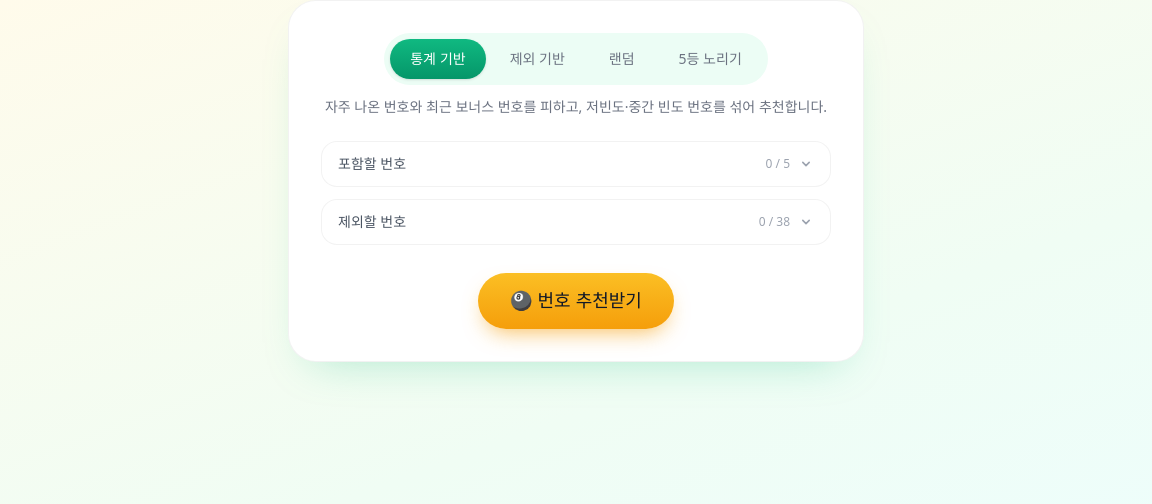
Scenario: RecommenderClient › 5등 노리기 (target5) › renders the API error (role=alert) and no result when the draw is rejected
Click the button "5등 노리기" at (710,59), box [659,39,762,79]
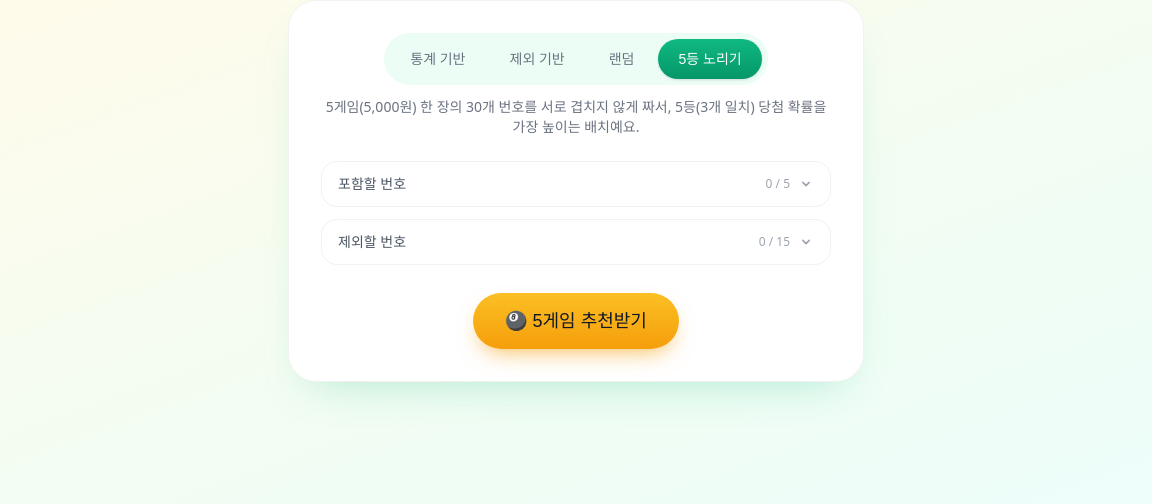
Click the button "🎱 5게임 추천받기" at (576,321), box [473,293,679,349]
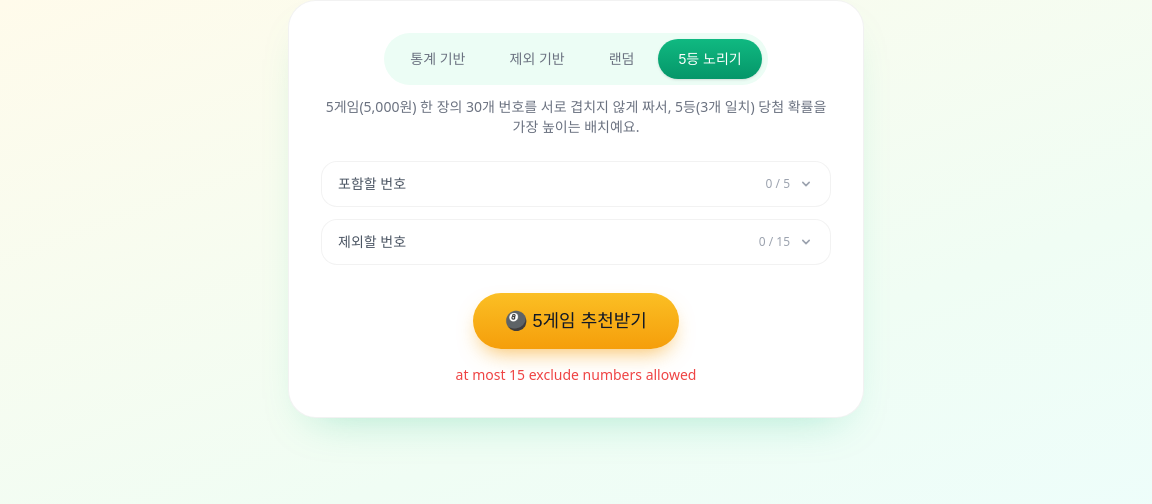
Expected: the message reads "at most 15 exclude numbers allowed", [456,365,696,384]
